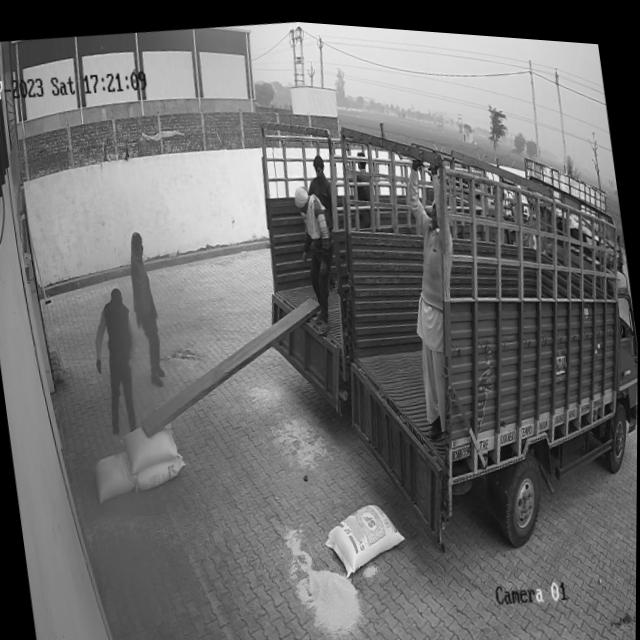sack: (321, 490, 411, 578), (118, 417, 181, 475), (91, 445, 137, 504), (134, 447, 188, 491)
